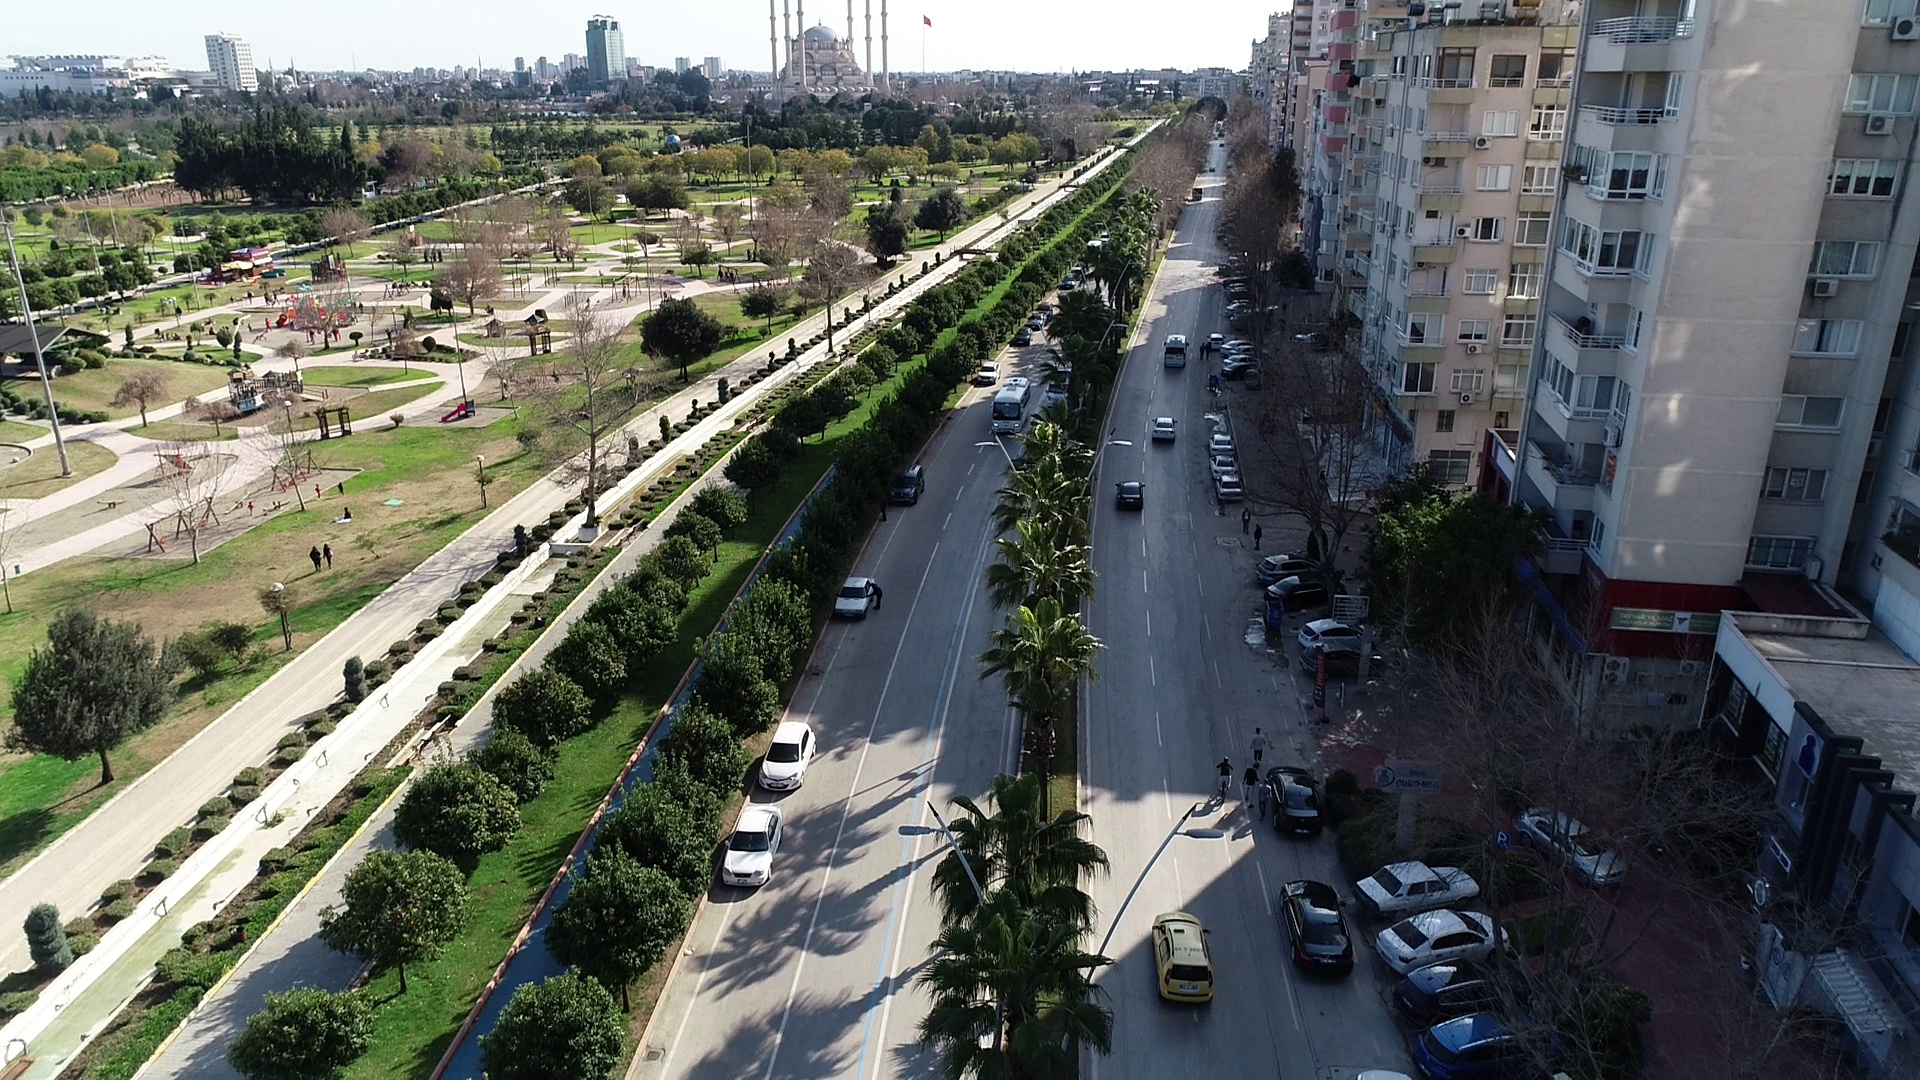bus: (991, 374, 1033, 438), (1159, 331, 1192, 374), (1191, 184, 1206, 205)
car: (1510, 801, 1633, 891), (1276, 873, 1359, 986), (1365, 909, 1517, 971), (1356, 857, 1492, 914), (1149, 908, 1219, 1010), (721, 800, 788, 893), (754, 716, 821, 795), (1267, 761, 1327, 845), (832, 572, 873, 624), (886, 464, 927, 512), (1113, 475, 1148, 514), (1212, 474, 1251, 504), (1148, 416, 1181, 449), (1218, 359, 1269, 378), (974, 359, 1000, 390), (1208, 430, 1236, 457), (1210, 455, 1240, 478), (1023, 309, 1049, 333), (1013, 326, 1034, 347)
person: (1244, 762, 1260, 811), (1250, 722, 1268, 768), (1257, 776, 1273, 820), (867, 578, 885, 614), (307, 544, 324, 575), (321, 540, 338, 570), (1239, 504, 1254, 538), (1252, 521, 1264, 558), (1198, 339, 1208, 363), (1207, 337, 1214, 362)
